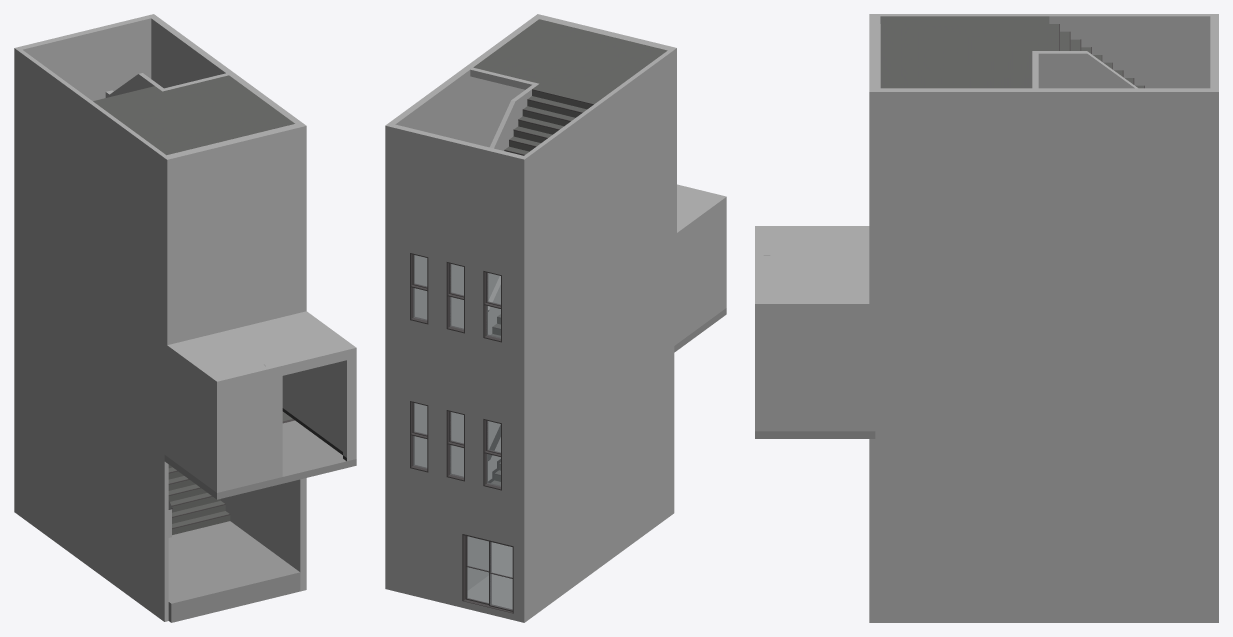
The model's file is anime-school-stairs-light.glb.
The picture shows the model from 3 angles, left to right: view 1: azimuth 30°, elevation 25°; view 2: azimuth 150°, elevation 25°; view 3: azimuth 270°, elevation 25°; orthographic projection. The views are drawn at different scales.
Parts seen in each view (by area): view 1: Object_7; view 2: Object_7, Object_62; view 3: Object_7.
Boxes of the visible parts, bbox=[...] form: Object_7: bbox=[14, 14, 356, 622]; Object_7: bbox=[385, 14, 726, 622]; Object_62: bbox=[413, 255, 512, 609]; Object_7: bbox=[755, 14, 1218, 622].
Bounding box in the file's own units: 4.33 × 13.77 × 10.9.
2 materials, 2 textured.
